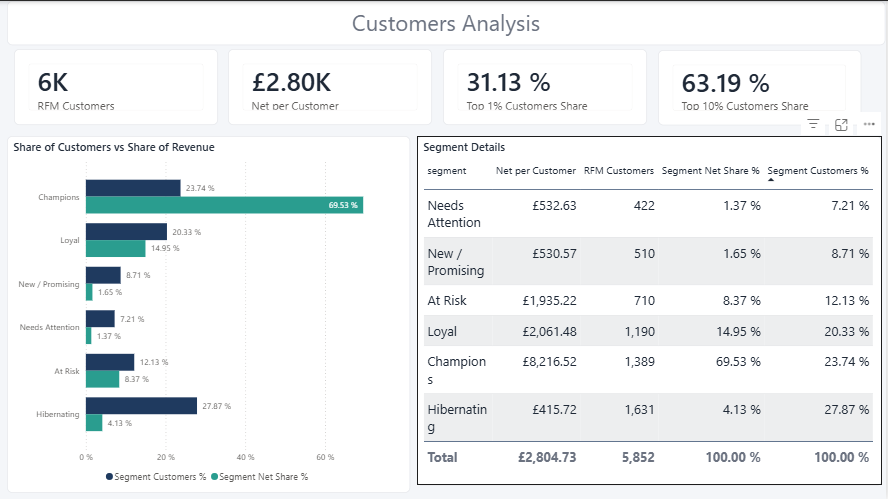

Layout of this report page (visuals, bound fields, positions):
{"tool":"powerbi","page":{"name":"Customers","canvas":[1280,720],"ordinal":2},"visuals":[{"type":"textbox","box":[10.1,0,1269.9,63.8],"z":0},{"type":"cardVisual","fields":{"Data":["Measures_.RFM Customers"]},"box":[20,70,295,110],"z":1000},{"type":"cardVisual","fields":{"Data":["Measures_.Net per Customer"]},"box":[330,70,295,110],"z":2000},{"type":"cardVisual","fields":{"Data":["Measures_.Top 1% Customers Share"]},"box":[640,70,295,110],"z":3000},{"type":"cardVisual","fields":{"Data":["Measures_.Top 10% Customers Share"]},"box":[950.8,70.6,294,109.2],"z":4000},{"type":"clusteredBarChart","title":"Share of Customers  vs Share of Revenue","fields":{"Category":["dim_customer.segment"],"Y":["Measures_.Segment Customers %","Measures_.Segment Net Share %"]},"box":[10.1,194.9,582.9,515.7],"z":5000},{"type":"tableEx","title":"Segment Details","fields":{"Values":["dim_customer.segment","Measures_.Net per Customer","Measures_.RFM Customers","Measures_.Segment Net Share %","Measures_.Segment Customers %"]},"box":[603,194.9,671.9,505.6],"z":6000},{"type":"actionButton","box":[0,0,100,40],"z":7000}]}

Visuals, with their boxes in screenshot pixels (x1, y1, x2, y2), scaled from the page's 1280x720 canvas onto the 888x499 screenshot:
textbox: left=7, top=0, right=887, bottom=44
cardVisual - Measures_.RFM Customers: left=14, top=49, right=219, bottom=125
cardVisual - Measures_.Net per Customer: left=229, top=49, right=434, bottom=125
cardVisual - Measures_.Top 1% Customers Share: left=444, top=49, right=649, bottom=125
cardVisual - Measures_.Top 10% Customers Share: left=660, top=49, right=864, bottom=125
"Share of Customers  vs Share of Revenue" clusteredBarChart: left=7, top=135, right=411, bottom=492
"Segment Details" tableEx: left=418, top=135, right=884, bottom=485
actionButton: left=0, top=0, right=69, bottom=28
